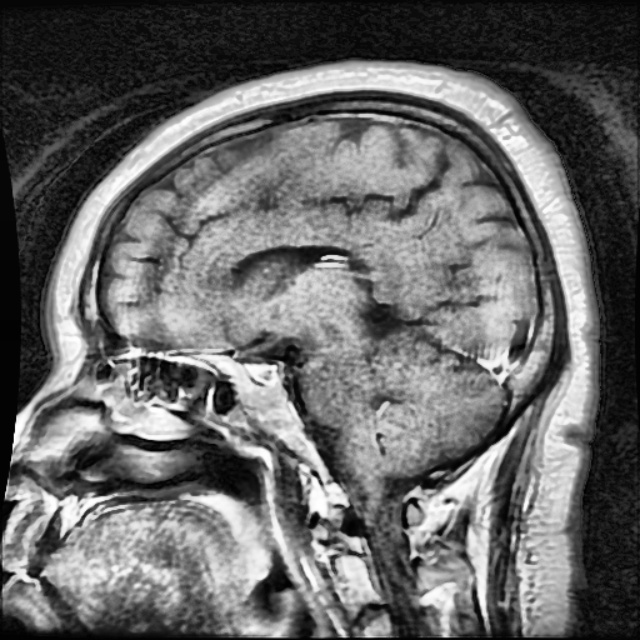Pituitary: (243, 362, 278, 382)
